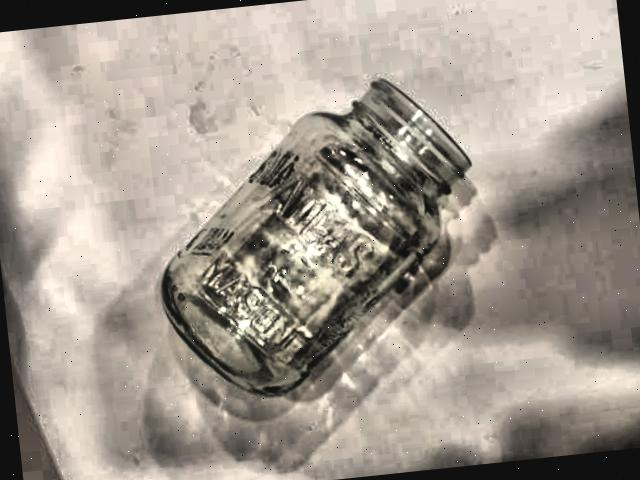Almennt: (136, 62, 501, 416)
